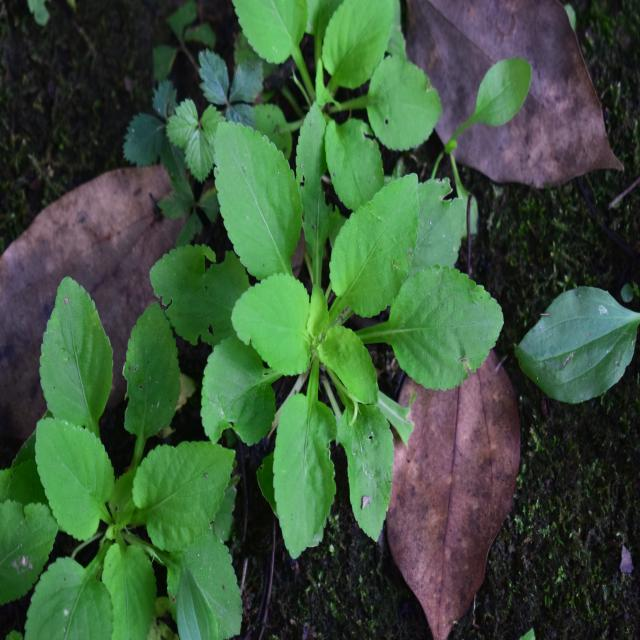Viola: (213, 128, 491, 520), (11, 268, 259, 636)
